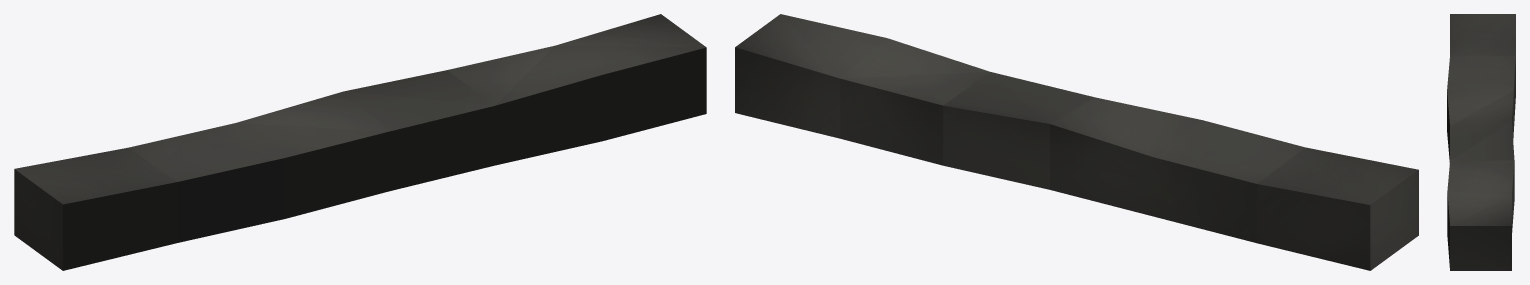
Rendered from Under Pillars  2.fbx.
3 views of the same model, side by side, from view 1: azimuth 30°, elevation 25°; view 2: azimuth 150°, elevation 25°; view 3: azimuth 270°, elevation 25° (orthographic). The views are drawn at different scales.
Visible parts, largest first — view 1: Under Pillars 2; view 2: Under Pillars 2; view 3: Under Pillars 2.
Boxes of the visible parts, x1,y1,x2,y2 form: Under Pillars 2: (14,14,706,270); Under Pillars 2: (735,14,1418,270); Under Pillars 2: (1447,14,1515,270).
Size of the model in its own units: 268 by 26.47 by 36.83.
1 material, 1 textured.
